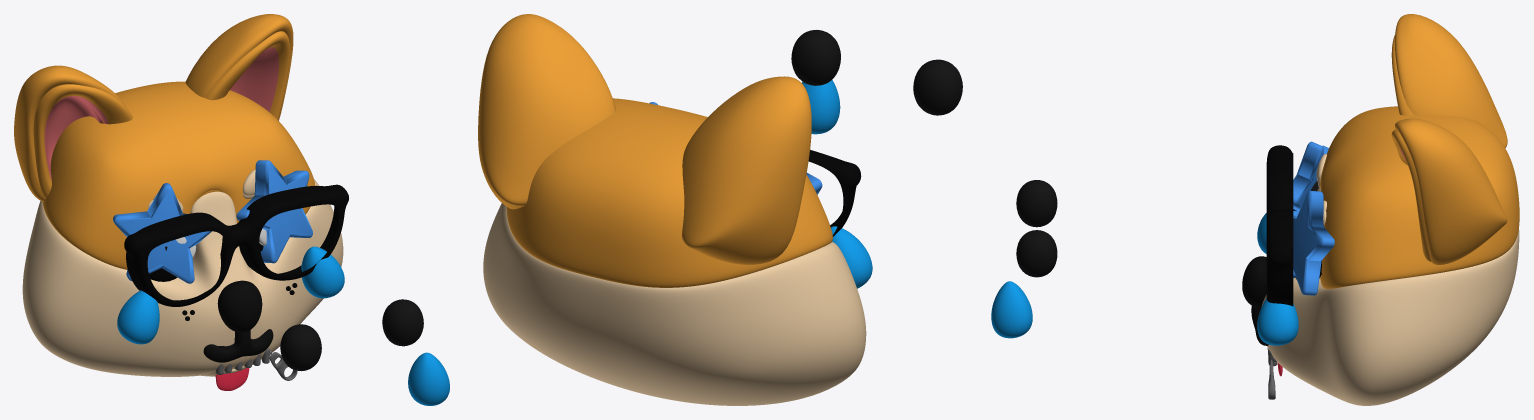
3 views of the same model, side by side, from view 1: azimuth 30°, elevation 25°; view 2: azimuth 150°, elevation 25°; view 3: azimuth 270°, elevation 25° (orthographic). The views are drawn at different scales.
Visible parts, largest first — view 1: Cube.187, Cube.188, Cube.216, Cube.189, Cube.183, Star.001, Cube.185, Cube.201, Cube.195, Cube.205, Cube.194, Cube.191 (+3 smaller); view 2: Cube.187, Cube.183, Cube.188, Cube.194, Cube.191, Cube.216, Cube.195, Cube.201; view 3: Cube.187, Cube.188, Cube.183, Cube.216, Star.001, Cube.195, Cube.191, Cube.194, Cube.205, Cube.189, Cube.185.
Part boxes in pixels (<box>): Cube.187: <box>22,179,343,376</box>; Cube.188: <box>42,81,315,269</box>; Cube.216: <box>124,184,348,306</box>; Cube.189: <box>33,31,289,198</box>; Cube.183: <box>14,14,293,201</box>; Star.001: <box>113,160,312,283</box>; Cube.185: <box>217,282,262,332</box>; Cube.201: <box>117,290,159,344</box>; Cube.195: <box>408,352,449,405</box>; Cube.205: <box>301,246,344,298</box>; Cube.194: <box>280,324,321,371</box>; Cube.191: <box>382,299,423,346</box>; Cube.187: <box>483,203,866,405</box>; Cube.183: <box>478,14,811,264</box>; Cube.188: <box>506,98,832,287</box>; Cube.194: <box>913,59,962,115</box>; Cube.191: <box>791,30,840,85</box>; Cube.216: <box>808,150,861,236</box>; Cube.195: <box>802,80,840,134</box>; Cube.201: <box>831,226,872,288</box>; Cube.187: <box>1261,186,1519,405</box>; Cube.188: <box>1319,106,1519,288</box>; Cube.183: <box>1395,14,1507,264</box>; Cube.216: <box>1266,145,1293,306</box>; Star.001: <box>1293,141,1334,295</box>; Cube.195: <box>991,281,1032,338</box>; Cube.191: <box>1016,230,1057,277</box>; Cube.194: <box>1016,180,1057,227</box>; Cube.205: <box>1257,298,1298,345</box>; Cube.189: <box>1391,35,1430,261</box>; Cube.185: <box>1242,256,1266,307</box>.
Bounding box in the file's own units: 5.94 × 5.63 × 8.83.
